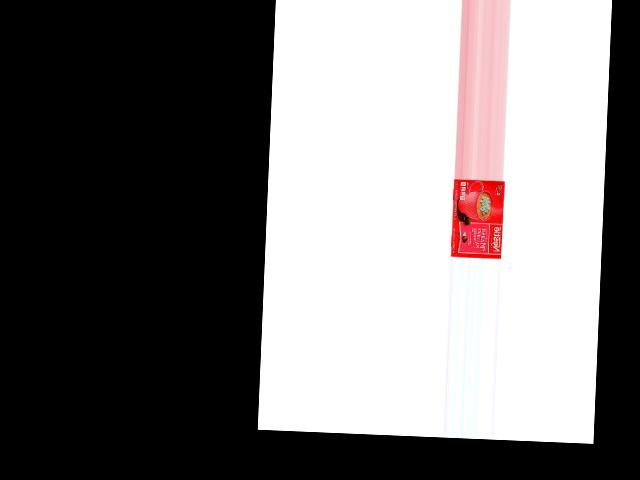chocolate: (447, 178, 502, 256)
